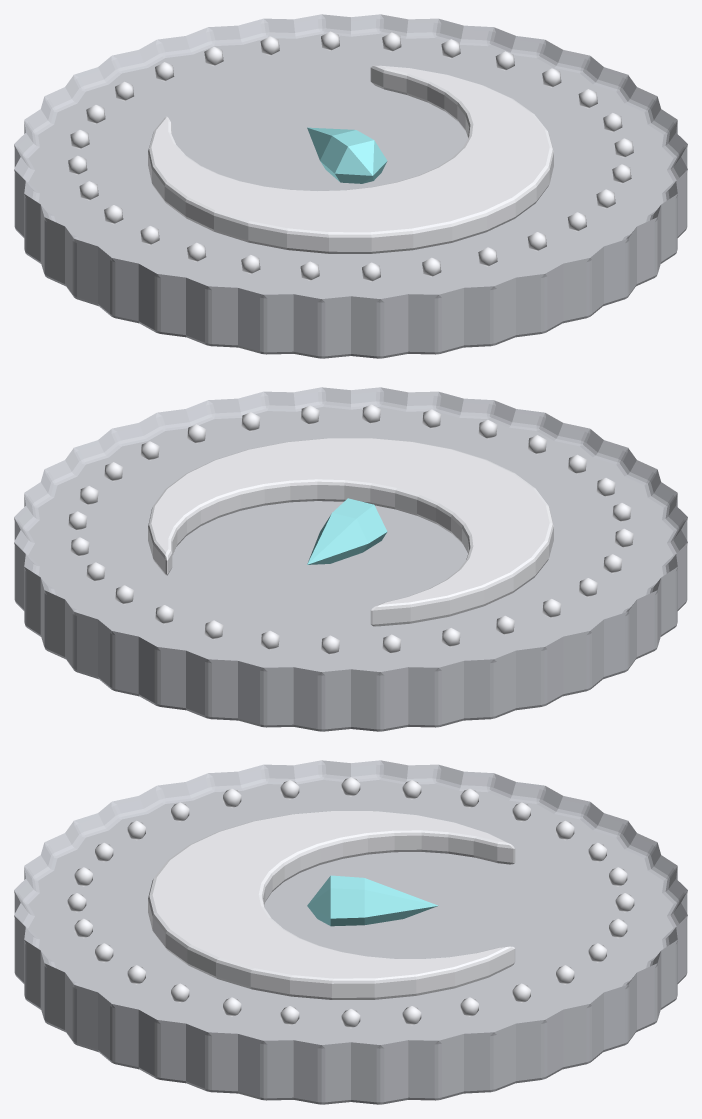
Rendered from SH10_Pickup_Coin_Silver.fbx.
3 views of the same model, one above another, from view 1: azimuth 30°, elevation 25°; view 2: azimuth 150°, elevation 25°; view 3: azimuth 270°, elevation 25° (orthographic).
Parts seen in each view (by area): view 1: Coin_Silver_Body, Coin_Silver_Crescent1, Coin_Silver_Beads1, Coin_Silver_Flame1; view 2: Coin_Silver_Body, Coin_Silver_Crescent1, Coin_Silver_Beads1, Coin_Silver_Flame1; view 3: Coin_Silver_Body, Coin_Silver_Crescent1, Coin_Silver_Beads1, Coin_Silver_Flame1.
Boxes of the visible parts, x1,y1,x2,y2 form: Coin_Silver_Body: (14, 14, 687, 358); Coin_Silver_Crescent1: (148, 65, 553, 253); Coin_Silver_Beads1: (68, 31, 633, 281); Coin_Silver_Flame1: (307, 127, 387, 183); Coin_Silver_Body: (14, 387, 687, 731); Coin_Silver_Crescent1: (148, 438, 553, 626); Coin_Silver_Beads1: (68, 404, 633, 654); Coin_Silver_Flame1: (307, 498, 387, 564); Coin_Silver_Body: (14, 760, 687, 1104); Coin_Silver_Crescent1: (148, 811, 515, 999); Coin_Silver_Beads1: (67, 777, 634, 1028); Coin_Silver_Flame1: (307, 875, 438, 926).
Bounding box in the file's own units: 0.9962 × 0.1679 × 0.9962.
